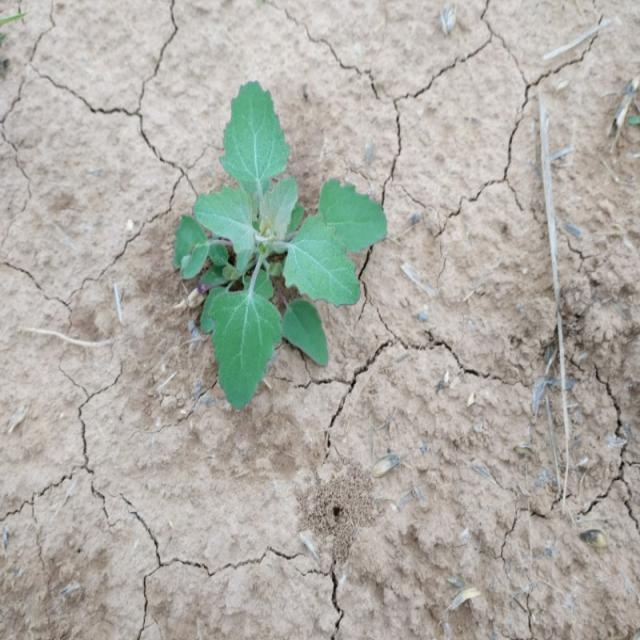goosefoots: (126, 75, 382, 383)
